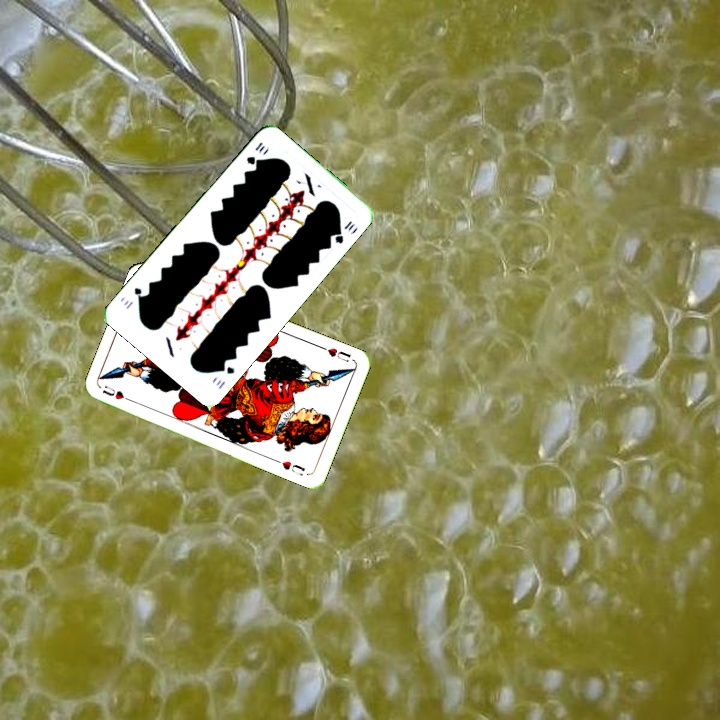G10: (211, 360, 237, 392), (242, 138, 267, 168)
HU: (98, 381, 136, 405), (317, 342, 354, 365)
